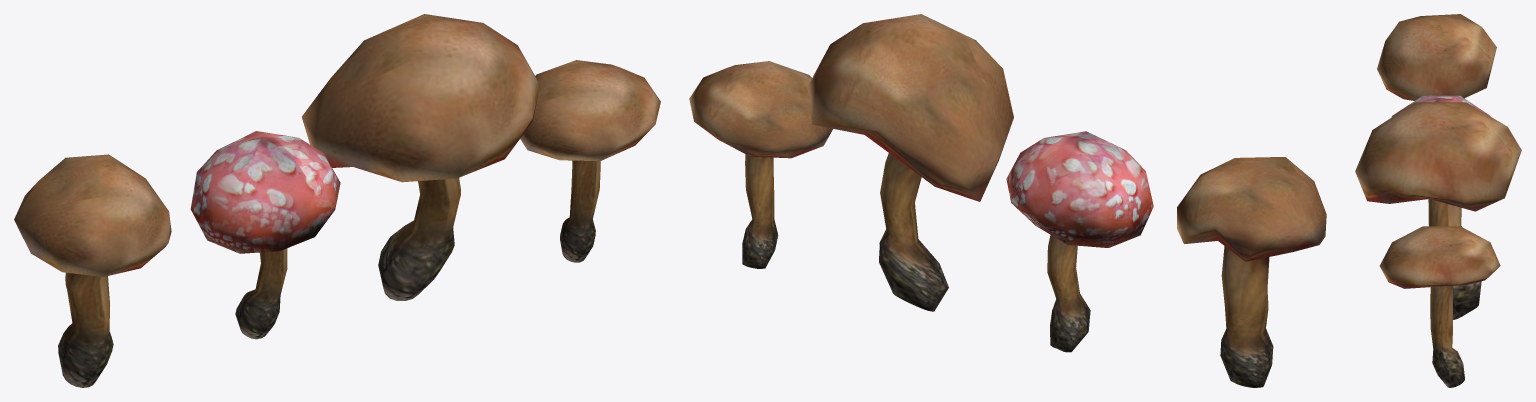
The model's file is champis.fbx.
3 renders of one model, left to right at view 1: azimuth 30°, elevation 25°; view 2: azimuth 150°, elevation 25°; view 3: azimuth 270°, elevation 25°, orthographic. The views are drawn at different scales.
Parts seen in each view (by area): view 1: Champi2, Champi3, Champi1.001, Champi4, Champi1; view 2: Champi2, Champi3, Champi4, Champi1.001, Champi1; view 3: Champi2, Champi4, Champi3, Champi1.001.
Boxes of the visible parts, x1,y1,x2,y2 form: Champi2: [302, 14, 539, 300]; Champi3: [14, 154, 171, 387]; Champi1.001: [190, 131, 340, 253]; Champi4: [520, 60, 660, 262]; Champi1: [235, 248, 287, 339]; Champi2: [807, 14, 1013, 311]; Champi3: [1177, 157, 1326, 387]; Champi4: [689, 61, 832, 268]; Champi1.001: [1006, 131, 1153, 247]; Champi1: [1047, 235, 1090, 352]; Champi2: [1355, 102, 1521, 319]; Champi4: [1379, 226, 1500, 387]; Champi3: [1377, 14, 1496, 100]; Champi1.001: [1391, 95, 1490, 117].
Bounding box in the file's own units: 949 × 407 × 274.
Materials: 3 (3 with a texture image).
